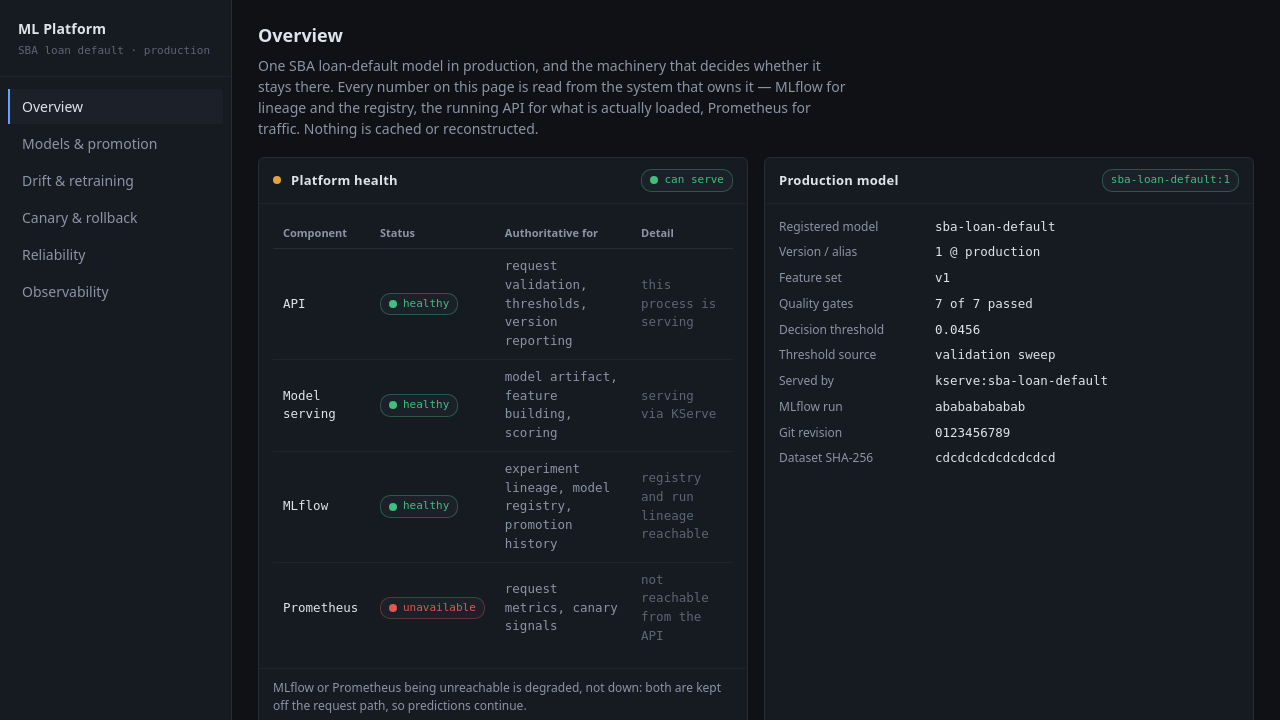
Scenario: the app shell › starts on the overview and switches views on click
The image size is (1280, 720).
Check: the heading "Overview" is shown, box x1=258 y1=23 x2=343 y2=47
Click the button "Canary & rollback". click: (116, 217)
box: x1=8 y1=200 x2=223 y2=234
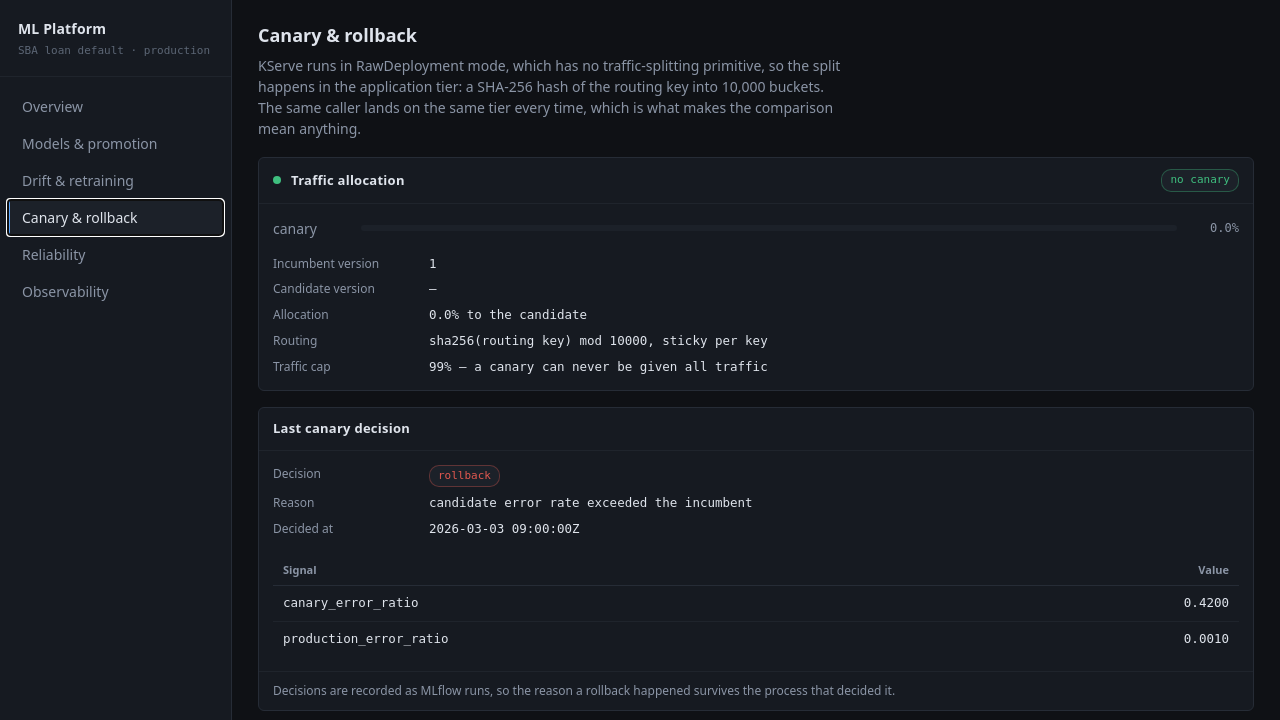
Check: the heading "Canary & rollback" is shown, box x1=258 y1=23 x2=417 y2=47
